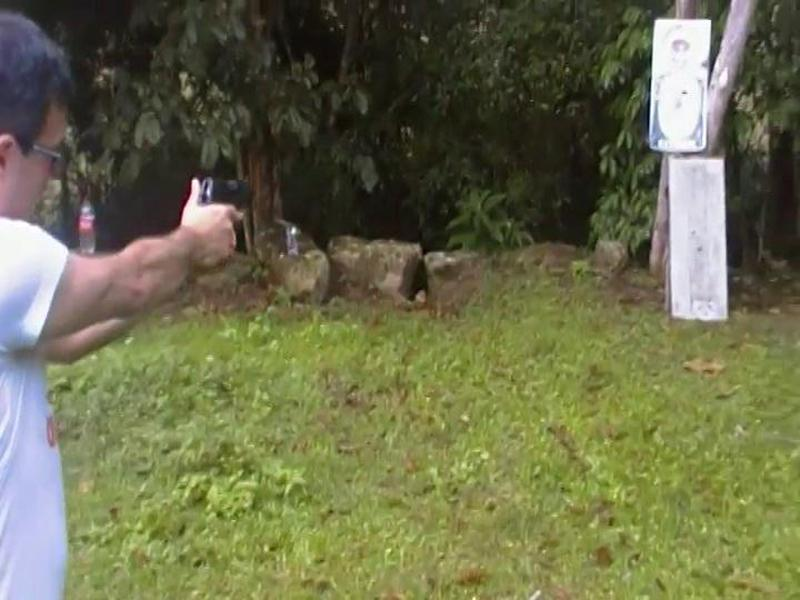Pistola: (175, 156, 277, 230)
